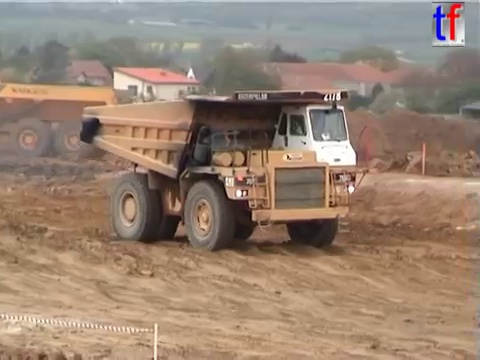truck: (76, 87, 376, 252), (1, 79, 136, 162)
